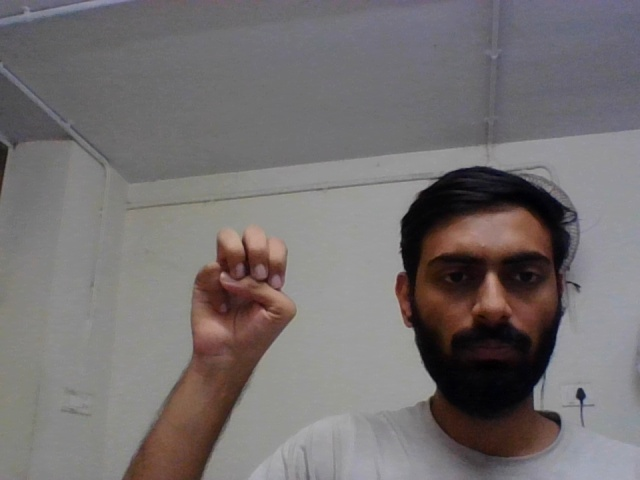M: (181, 216, 302, 382)
